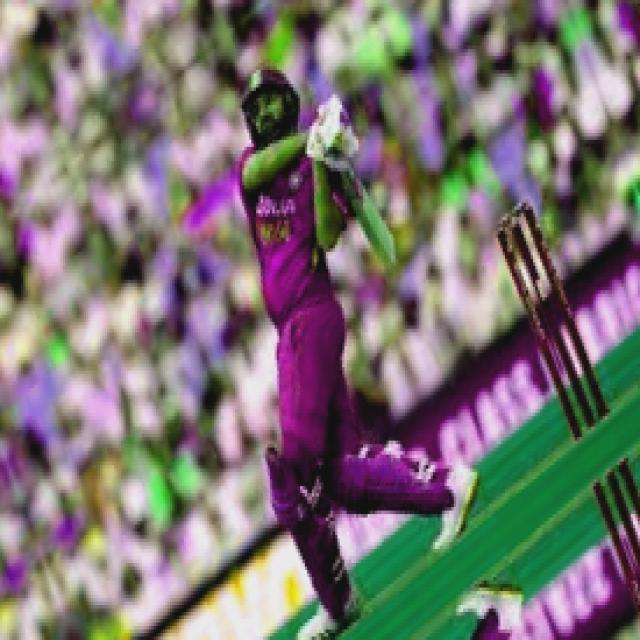toe: (372, 222, 398, 281)
